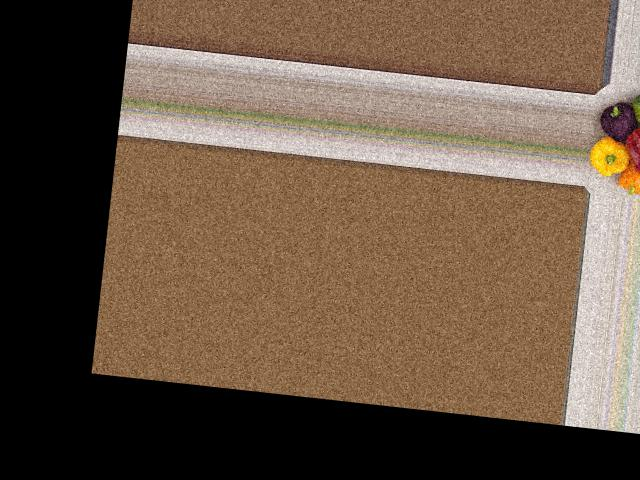bell_pepper: (599, 90, 640, 144)
